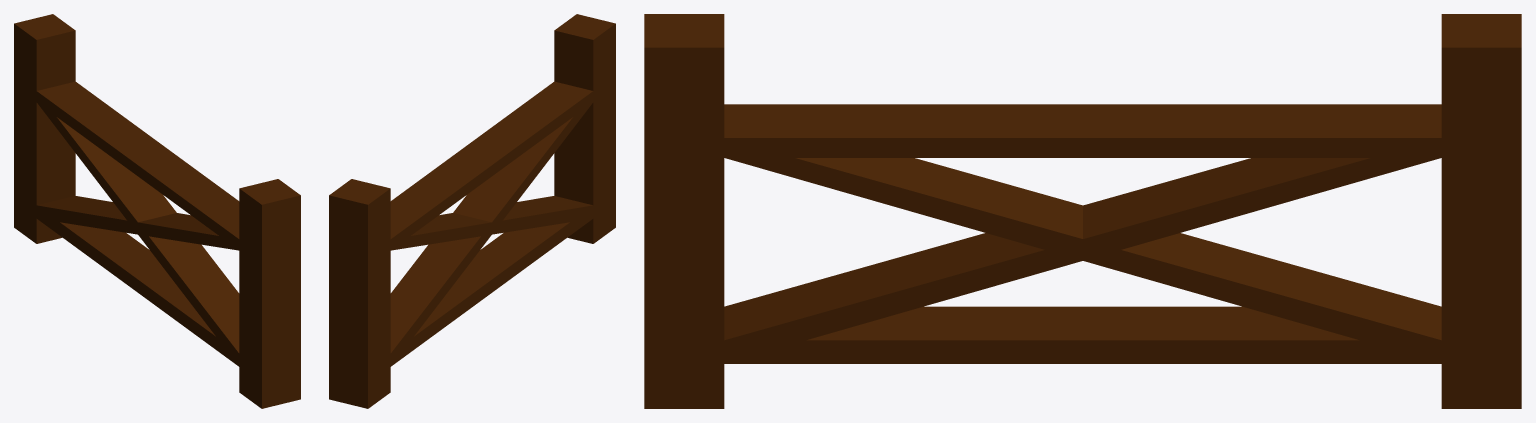
Rendered from fence.gltf.
3 renders of one model, left to right at view 1: azimuth 30°, elevation 25°; view 2: azimuth 150°, elevation 25°; view 3: azimuth 270°, elevation 25°, orthographic. The views are drawn at different scales.
Visible parts, largest first — view 1: Cube; view 2: Cube; view 3: Cube.
Part boxes in pixels (x1=…): Cube: x1=14, y1=14, x2=300, y2=408; Cube: x1=329, y1=14, x2=615, y2=408; Cube: x1=644, y1=14, x2=1521, y2=408.
Size of the model in its own units: 0.2 by 1 by 2.2.
